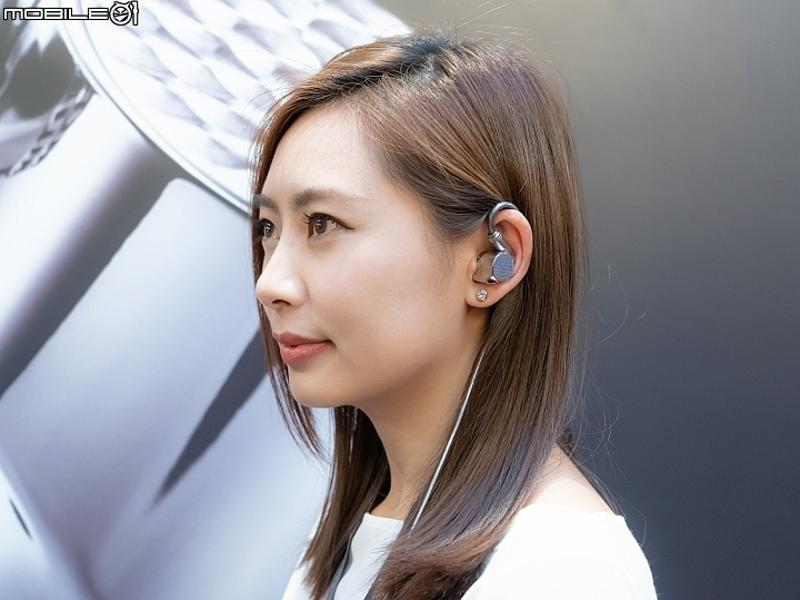headphone: (471, 242, 518, 287)
